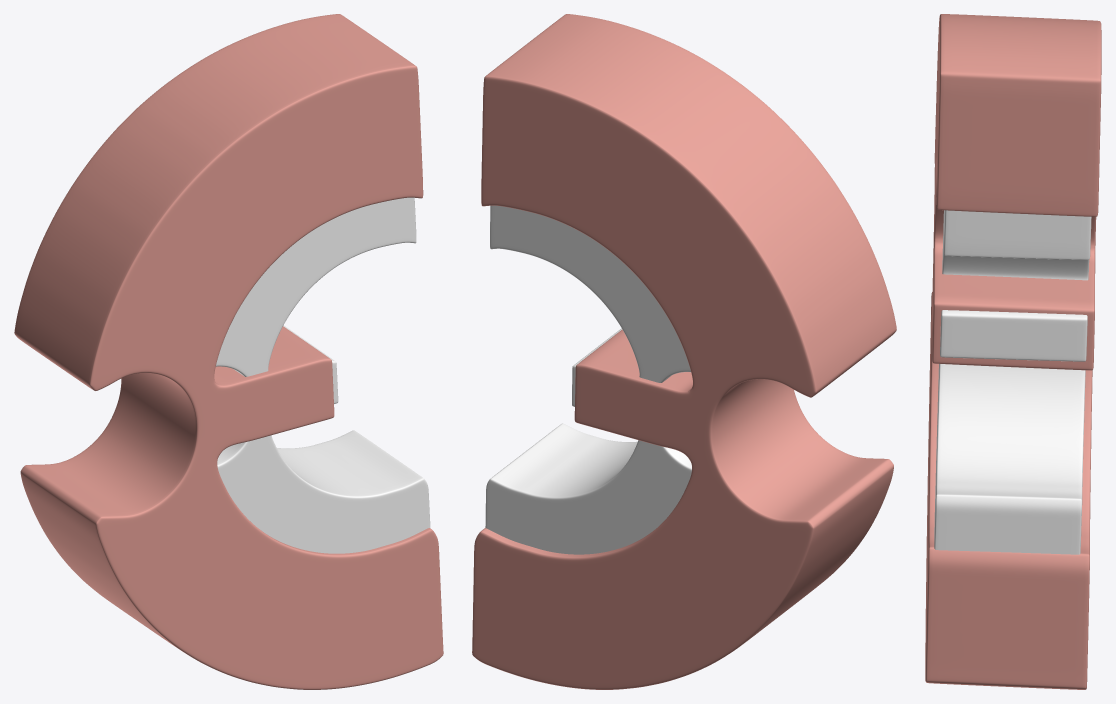
File: epj.glb
3 views of the same model, side by side, from view 1: azimuth 30°, elevation 25°; view 2: azimuth 150°, elevation 25°; view 3: azimuth 270°, elevation 25° (orthographic).
Parts seen in each view (by area): view 1: Retopo_Curve.003, Retopo_Curve.001; view 2: Retopo_Curve.003, Retopo_Curve.001; view 3: Retopo_Curve.003, Retopo_Curve.001.
Boxes of the visible parts, left/top/right/bottom form: Retopo_Curve.003: left=14, top=14, right=443, bottom=689; Retopo_Curve.001: left=215, top=197, right=430, bottom=553; Retopo_Curve.003: left=472, top=14, right=896, bottom=689; Retopo_Curve.001: left=485, top=205, right=691, bottom=554; Retopo_Curve.003: left=925, top=14, right=1101, bottom=689; Retopo_Curve.001: left=934, top=210, right=1091, bottom=554.
Size of the model in its own units: 0.0563 by 0.0933 by 0.024.
